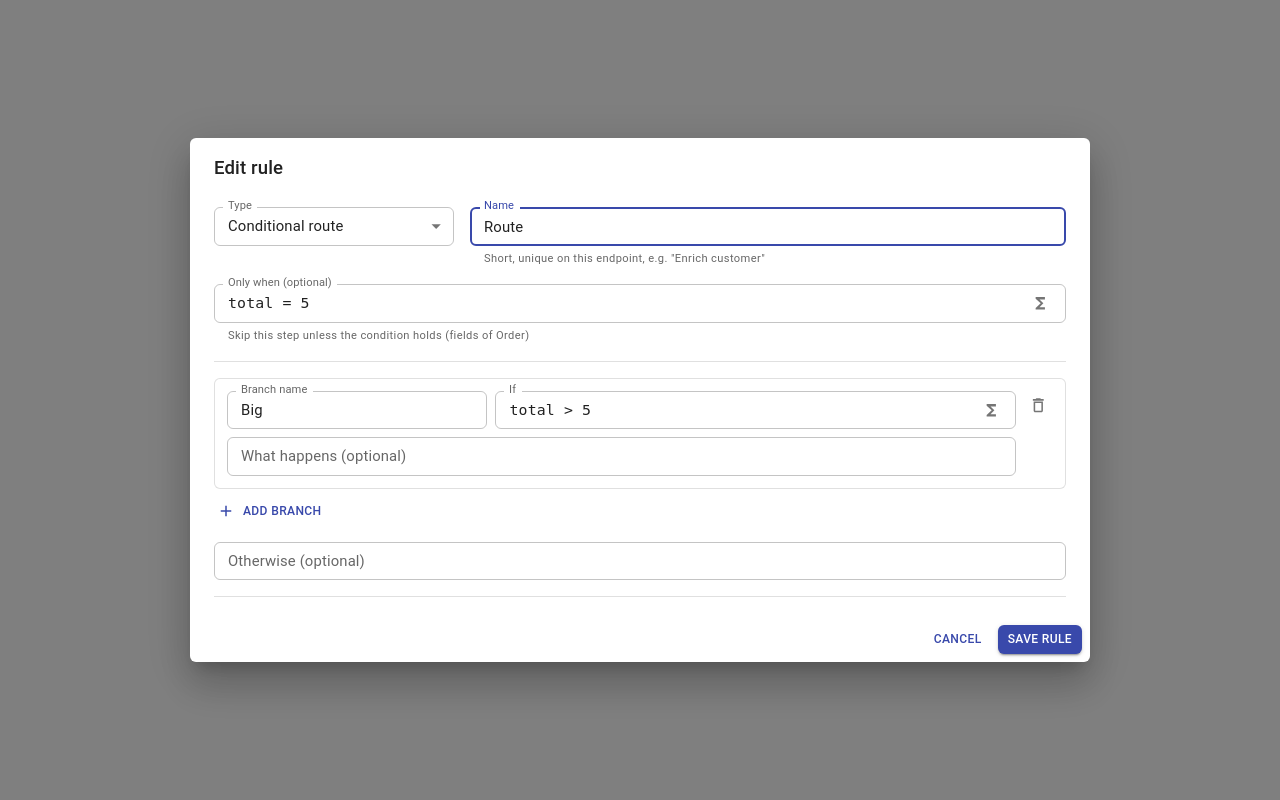
Scenario: RuleDialog › shows server errors on the right inputs and keeps the dialog open
The image size is (1280, 800).
Click the button "Save rule": [1040, 640] box [998,625,1082,654]
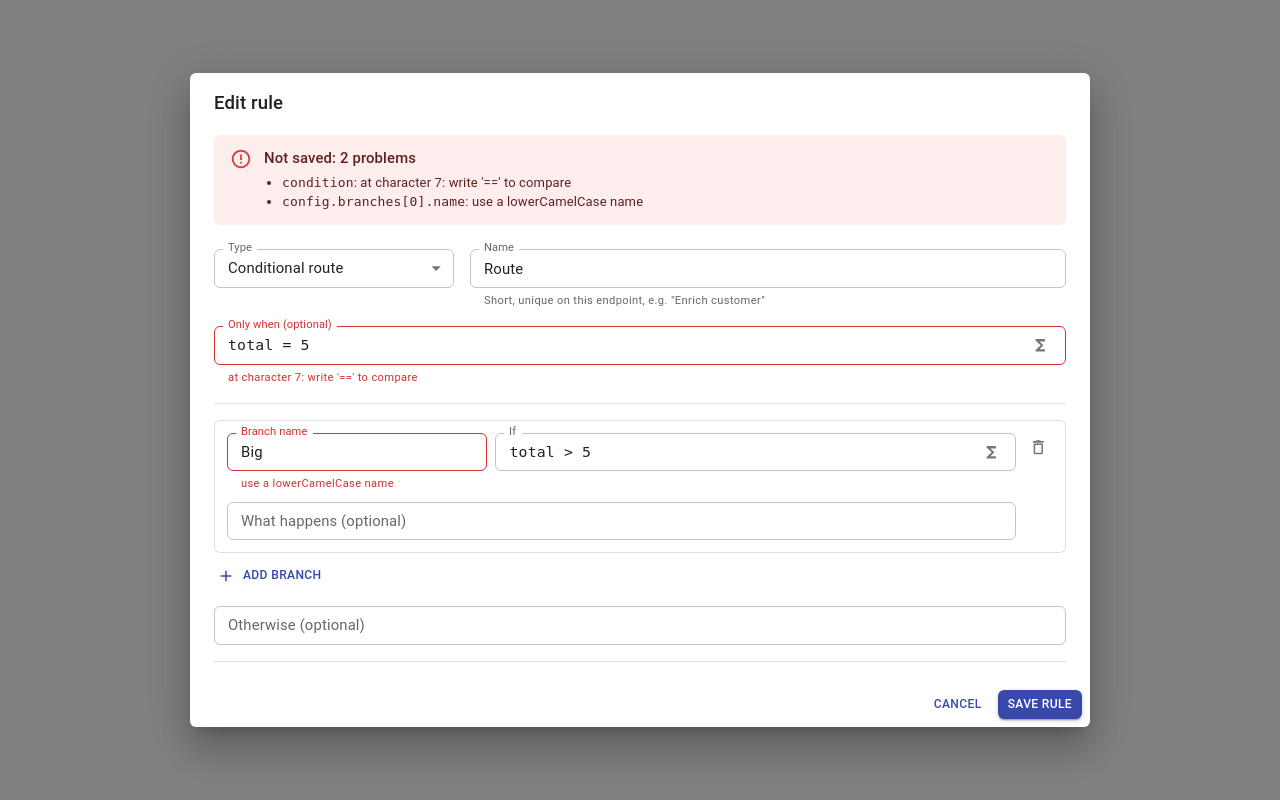
expect the text "Not saved: 2 problems" is shown: met, box [264,149,416,167]
